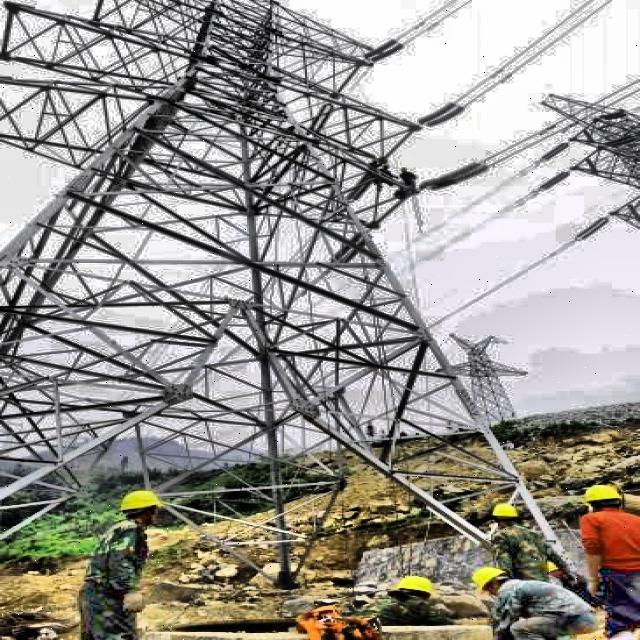helmet: (116, 484, 166, 528), (388, 572, 438, 608), (470, 566, 518, 598), (582, 481, 622, 516), (484, 502, 526, 530)
